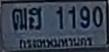0: (92, 5, 102, 27)
1: (68, 6, 75, 28), (55, 6, 62, 28)
9: (79, 5, 89, 27)
A18: (12, 8, 26, 30)
A44: (28, 6, 41, 29)
BKK: (16, 35, 95, 51)
